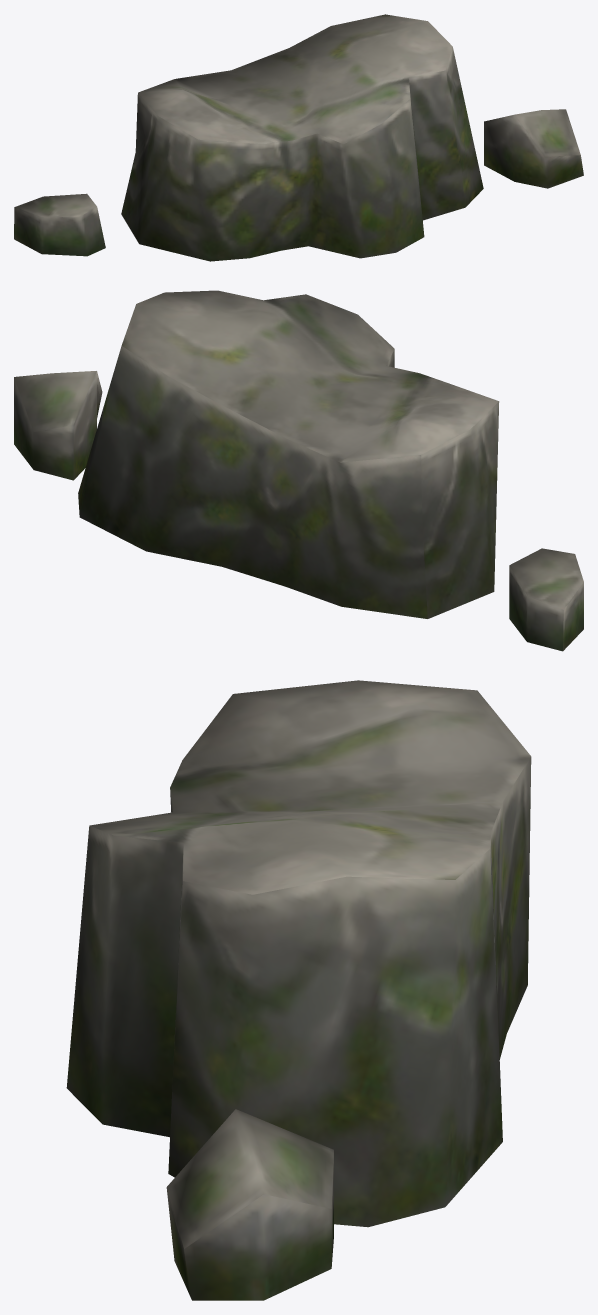
The model's file is Stage_CaoYuan_HeShi02.FBX.
The picture shows the model from 3 angles, top to bottom: view 1: azimuth 30°, elevation 25°; view 2: azimuth 150°, elevation 25°; view 3: azimuth 270°, elevation 25°; orthographic projection. The views are drawn at different scales.
Visible parts, largest first — view 1: Stage_CaoYuan_HeShi02; view 2: Stage_CaoYuan_HeShi02; view 3: Stage_CaoYuan_HeShi02.
Part boxes in pixels (x1,y1,x2,y2): Stage_CaoYuan_HeShi02: (14,14,583,261); Stage_CaoYuan_HeShi02: (14,290,583,651); Stage_CaoYuan_HeShi02: (66,680,531,1300).
Bounding box in the file's own units: 515 × 156 × 210.
